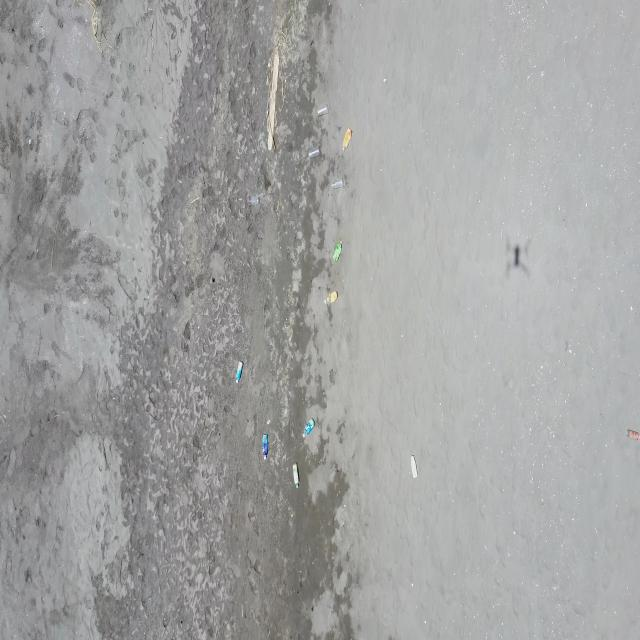plastic-bottle: (324, 289, 338, 307), (342, 128, 352, 152), (303, 419, 315, 438), (333, 240, 343, 262), (292, 462, 300, 489), (262, 433, 268, 462), (411, 455, 418, 479), (236, 361, 243, 384)
takeaway-cup: (247, 194, 260, 208), (332, 177, 344, 190), (309, 146, 321, 158), (317, 104, 328, 117)
